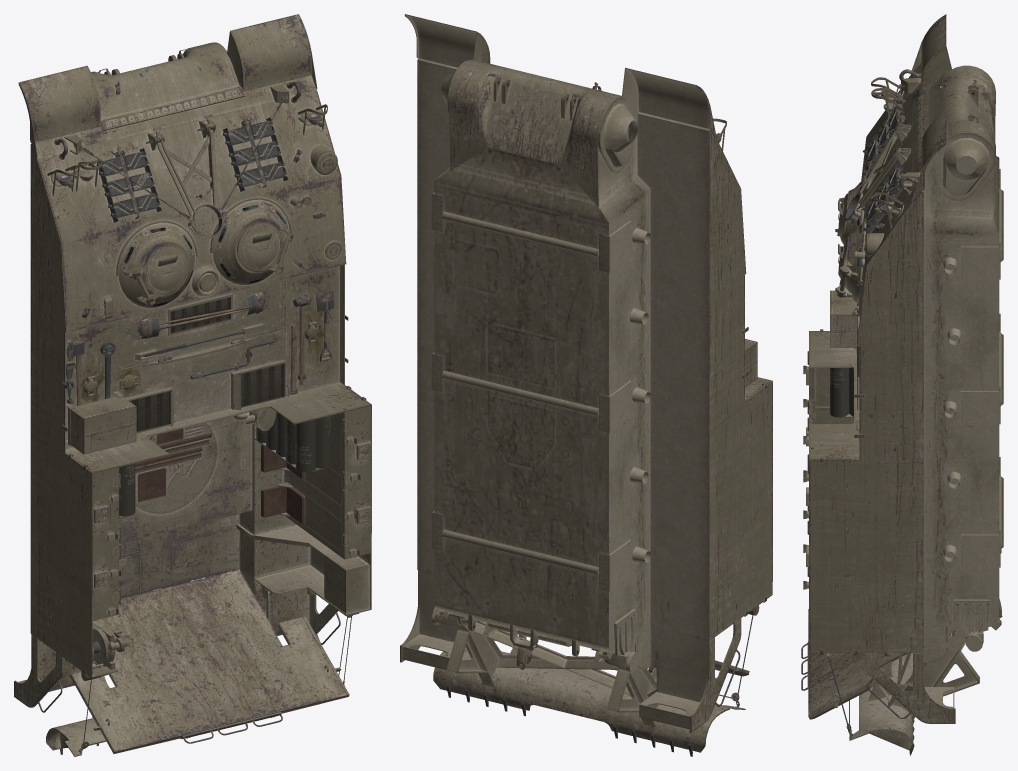
Rendered from Hull.glb.
3 views of the same model, side by side, from view 1: azimuth 30°, elevation 25°; view 2: azimuth 150°, elevation 25°; view 3: azimuth 270°, elevation 25° (orthographic). The views are drawn at different scales.
Visible parts, largest first — view 1: set_0_group_0, set_0_group_1; view 2: set_0_group_0; view 3: set_0_group_0, set_0_group_1.
Part boxes in pixels (bbox=[...]): set_0_group_0: bbox=[14, 14, 371, 756]; set_0_group_1: bbox=[92, 406, 371, 676]; set_0_group_0: bbox=[400, 14, 772, 756]; set_0_group_0: bbox=[801, 14, 1003, 755]; set_0_group_1: bbox=[803, 351, 853, 589].
Bounding box in the file's own units: 3.16 × 7.13 × 2.09.
2 materials, 2 textured.
